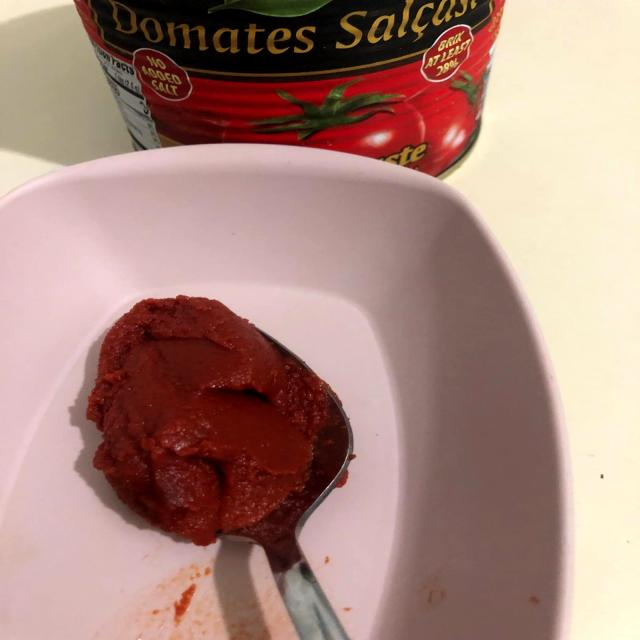tomato paste: (87, 275, 389, 553), (72, 0, 501, 179)
